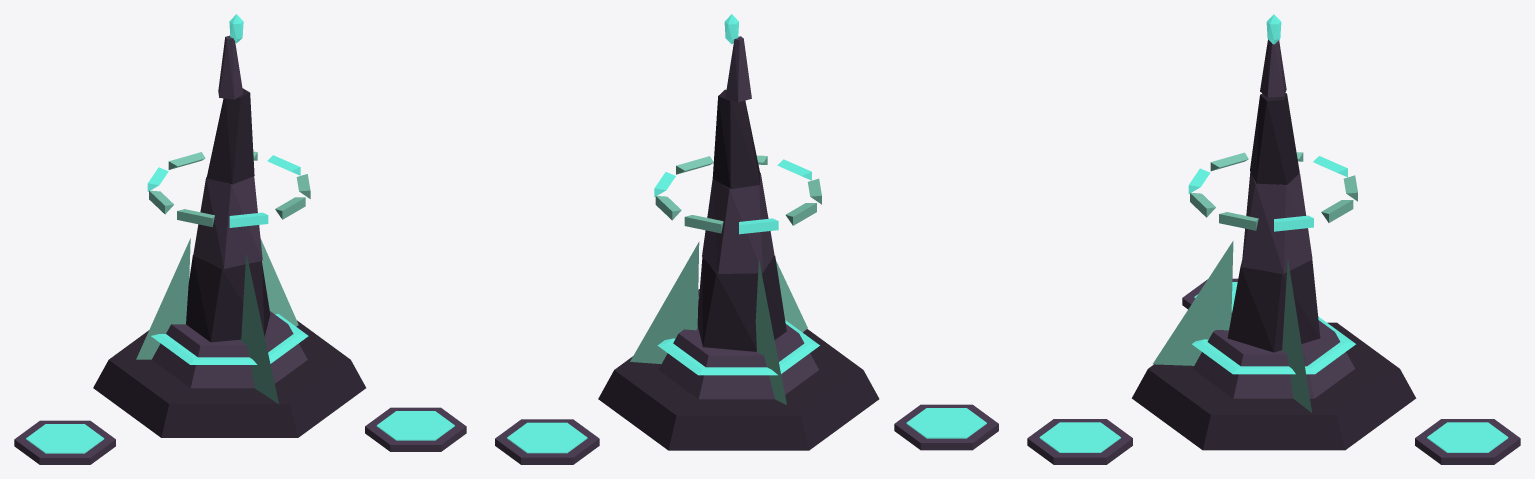
File: aln_str_recharge_node.glb
The picture shows the model from 3 angles, left to right: view 1: azimuth 30°, elevation 25°; view 2: azimuth 150°, elevation 25°; view 3: azimuth 270°, elevation 25°; orthographic projection. The views are drawn at different scales.
Visible parts, largest first — view 1: aln_str_recharge_node, node_glow, ring; view 2: aln_str_recharge_node, node_glow, ring; view 3: aln_str_recharge_node, node_glow, ring.
Boxes of the visible parts, bbox=[...] form: aln_str_recharge_node: bbox=[14, 35, 466, 464]; node_glow: bbox=[26, 14, 454, 453]; ring: bbox=[147, 151, 310, 227]; aln_str_recharge_node: bbox=[495, 36, 998, 464]; node_glow: bbox=[507, 14, 986, 453]; ring: bbox=[654, 155, 821, 234]; aln_str_recharge_node: bbox=[1027, 39, 1520, 464]; node_glow: bbox=[1039, 14, 1508, 452]; ring: bbox=[1188, 152, 1357, 231].
Size of the model in its own units: 20.84 by 21.04 by 24.25.
2 materials, 2 textured.
